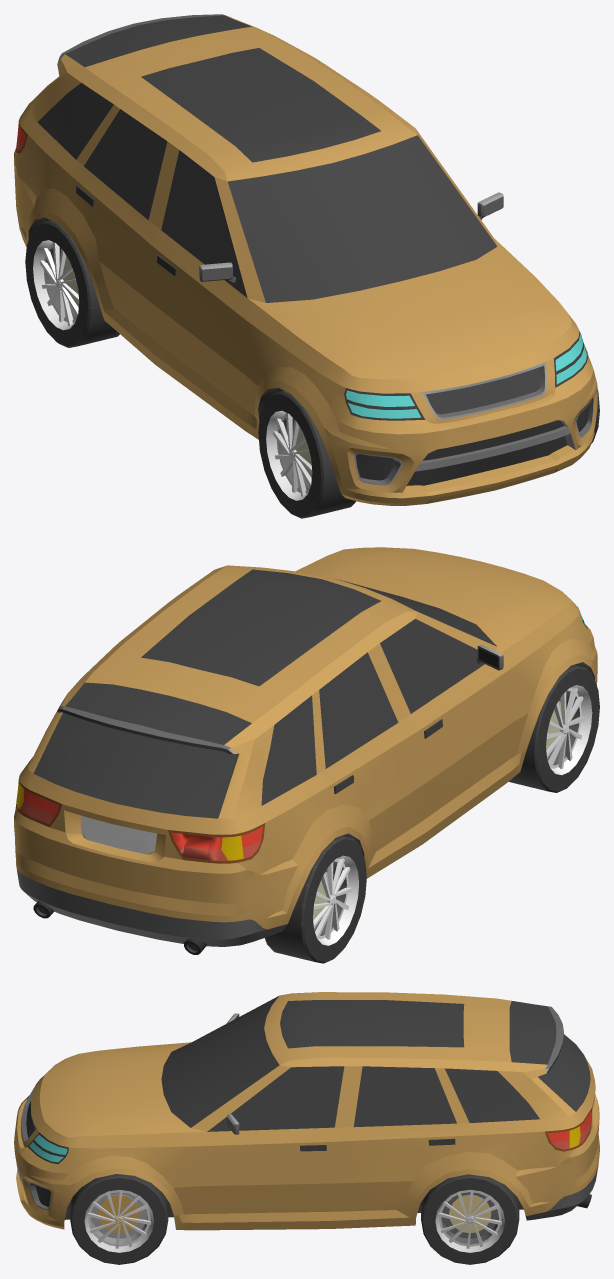
File: AlcyoneEDT.fbx
3 views of the same model, one above another, from view 1: azimuth 30°, elevation 25°; view 2: azimuth 150°, elevation 25°; view 3: azimuth 270°, elevation 25° (orthographic). The views are drawn at different scales.
Visible parts, largest first — view 1: Body, FrontRightWheel, RearRightWheel; view 2: Body, RearRightWheel, FrontRightWheel; view 3: Body, FrontLeftWheel, RearLeftWheel.
Part boxes in pixels (x1=…): Body: x1=14, y1=14, x2=597, y2=505; FrontRightWheel: x1=258, y1=390, x2=355, y2=518; RearRightWheel: x1=25, y1=220, x2=119, y2=347; Body: x1=14, y1=547, x2=597, y2=954; RearRightWheel: x1=265, y1=835, x2=366, y2=963; FrontRightWheel: x1=508, y1=665, x2=599, y2=792; Body: x1=14, y1=992, x2=599, y2=1230; FrontLeftWheel: x1=70, y1=1174, x2=168, y2=1264; RearLeftWheel: x1=421, y1=1174, x2=519, y2=1264.
Bounding box in the file's own units: 213 × 172 × 475.
